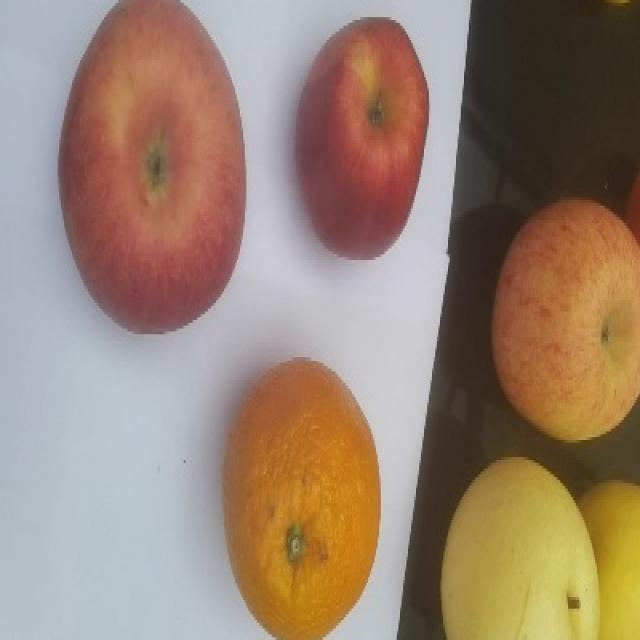Apple: (57, 0, 246, 334), (490, 197, 639, 442), (294, 15, 429, 260)
Orange: (222, 356, 381, 639)
